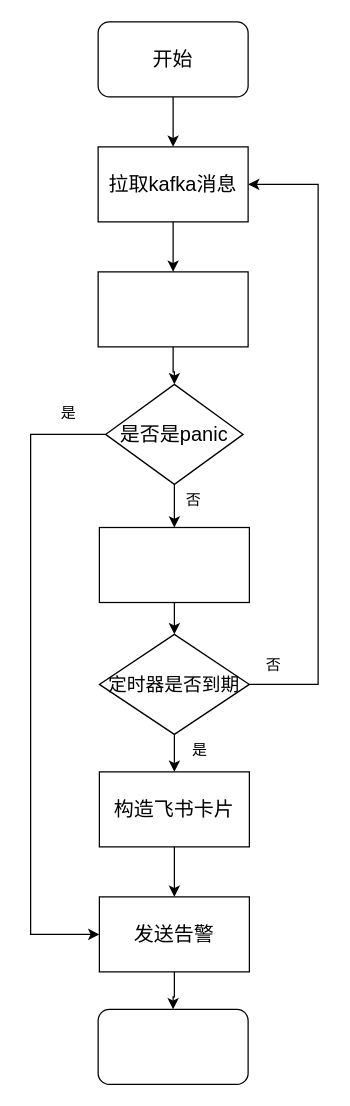
The diagram is 350 pixels wide and 1106 high, and some of its shapes have lost their labels. The centre of each missing label's shape, as x and y in pixels:
"加入到聚合器" belongs at pixel 173 564.
"消息解析" belongs at pixel 172 309.
"结束" belongs at pixel 172 1046.
